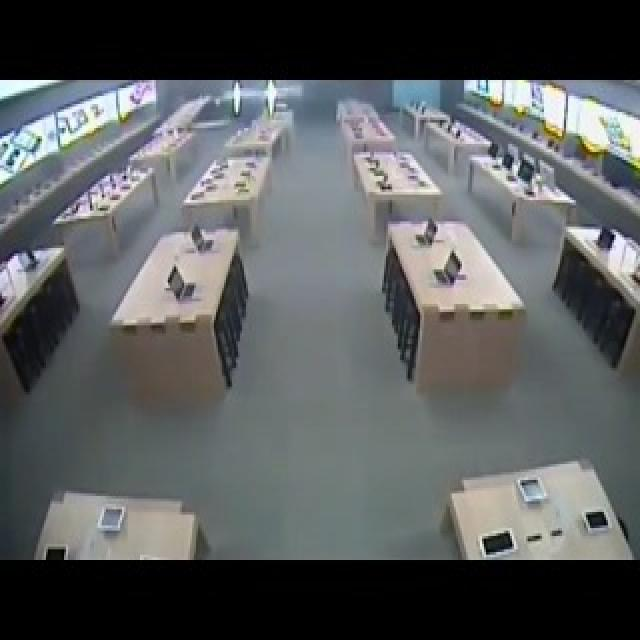burglary: (217, 80, 293, 116)
